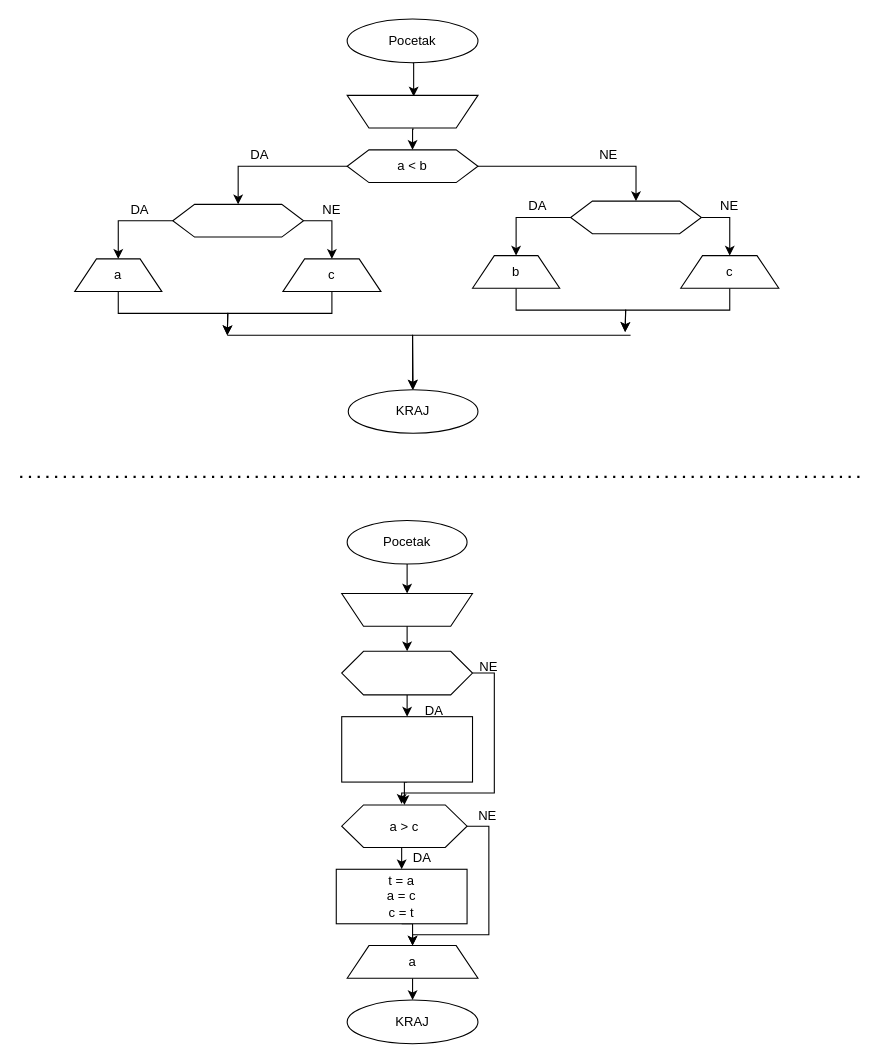
This 880x1063 diagram has some shape labels left out. The box of each missing label's shape, as (x1, y1, x2, y2) in pixels:
a < c: (172, 203, 304, 237)
a > b: (341, 650, 473, 695)
a, b, c: (341, 592, 473, 626)
a, b,c: (346, 94, 478, 128)
b < c: (570, 200, 701, 234)
t = a a = b b = t: (341, 716, 473, 782)
